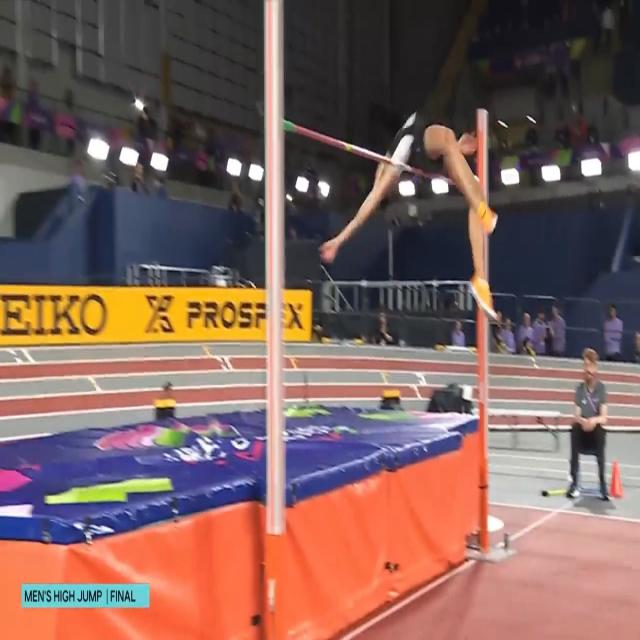jump: (318, 113, 498, 323)
